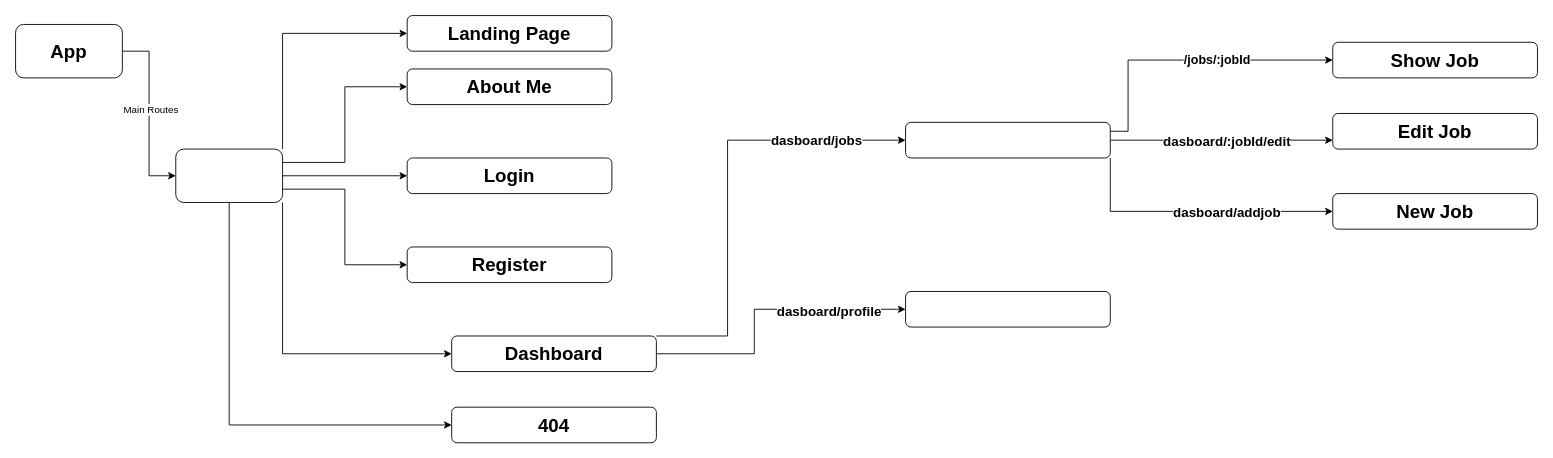
This 1553x458 diagram has some shape labels left out. The shapes that lost their labels are listed below. From the top down, each one's centre as x and y in pixels, then its label:
At (1007,139): "Jobs".
At (229,175): "Routes".
At (1007,309): "Profile".
